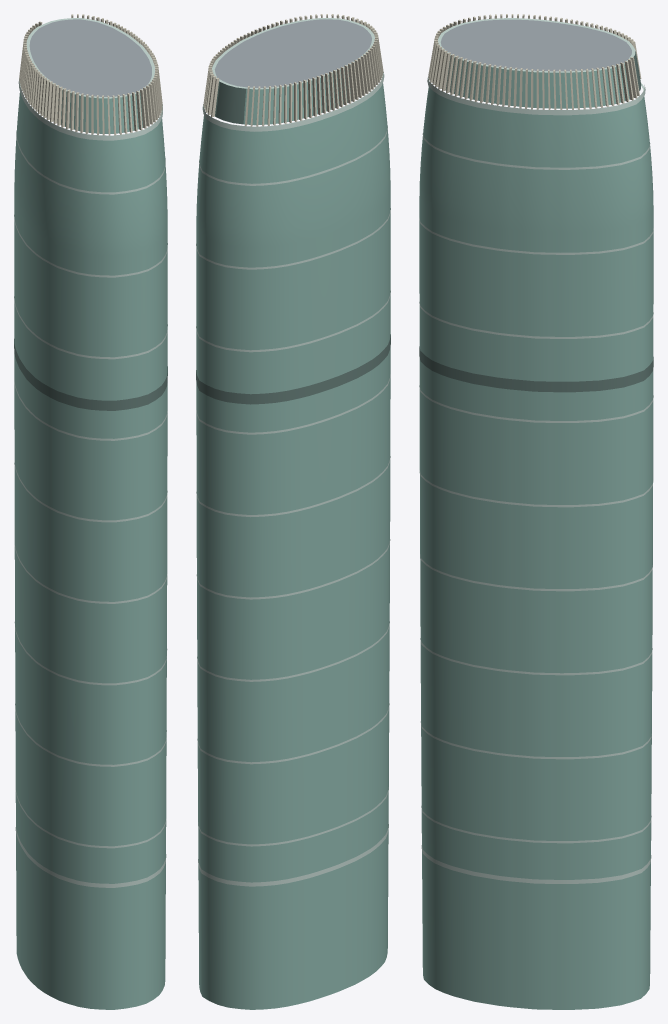
Rendered from mexico-city-torre-mitikah.glb.
The picture shows the model from 3 angles, left to right: view 1: azimuth 30°, elevation 25°; view 2: azimuth 150°, elevation 25°; view 3: azimuth 270°, elevation 25°; orthographic projection. The views are drawn at different scales.
Visible parts, largest first — view 1: Torre Mítikah; view 2: Torre Mítikah; view 3: Torre Mítikah.
Part boxes in pixels (<box>): Torre Mítikah: <box>14,14,167,1009</box>; Torre Mítikah: <box>196,14,390,1009</box>; Torre Mítikah: <box>419,14,653,1009</box>.
Bounding box in the file's own units: 39.9 × 267 × 60.63.
